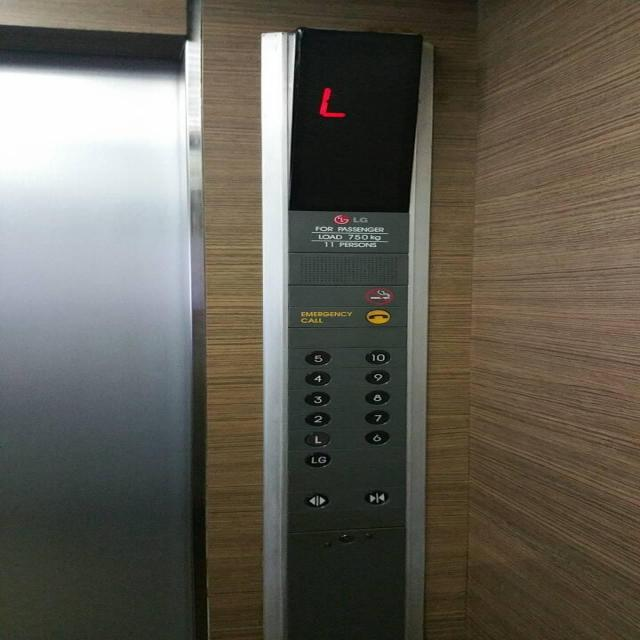10: (362, 348, 390, 364)
2: (302, 411, 331, 426)
3: (303, 391, 332, 406)
4: (303, 370, 332, 386)
5: (302, 350, 332, 366)
6: (363, 430, 391, 446)
7: (363, 408, 391, 424)
8: (363, 388, 391, 404)
9: (363, 368, 391, 384)
L: (303, 431, 332, 447)
LG: (302, 452, 331, 468)
call: (366, 308, 390, 324)
close: (362, 490, 389, 505)
led: (285, 26, 423, 212)
open: (303, 492, 331, 508)
